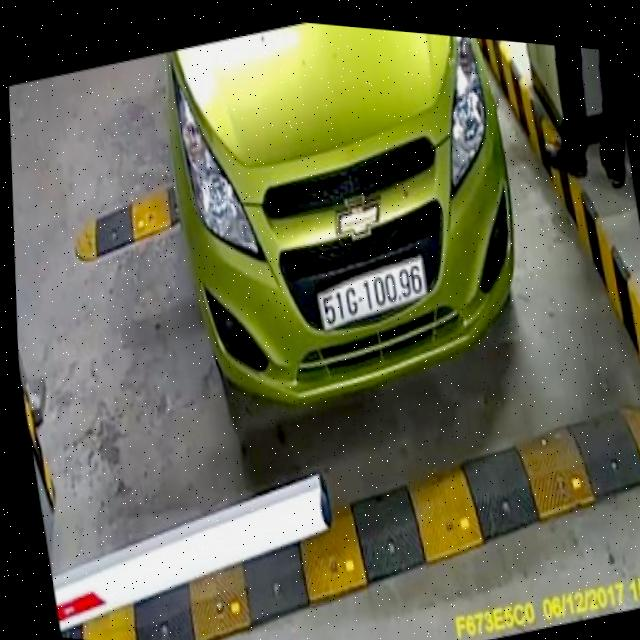car: (151, 11, 531, 433)
plate: (311, 248, 433, 342)
